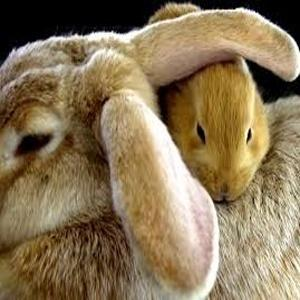rabbit: (0, 4, 299, 299)
